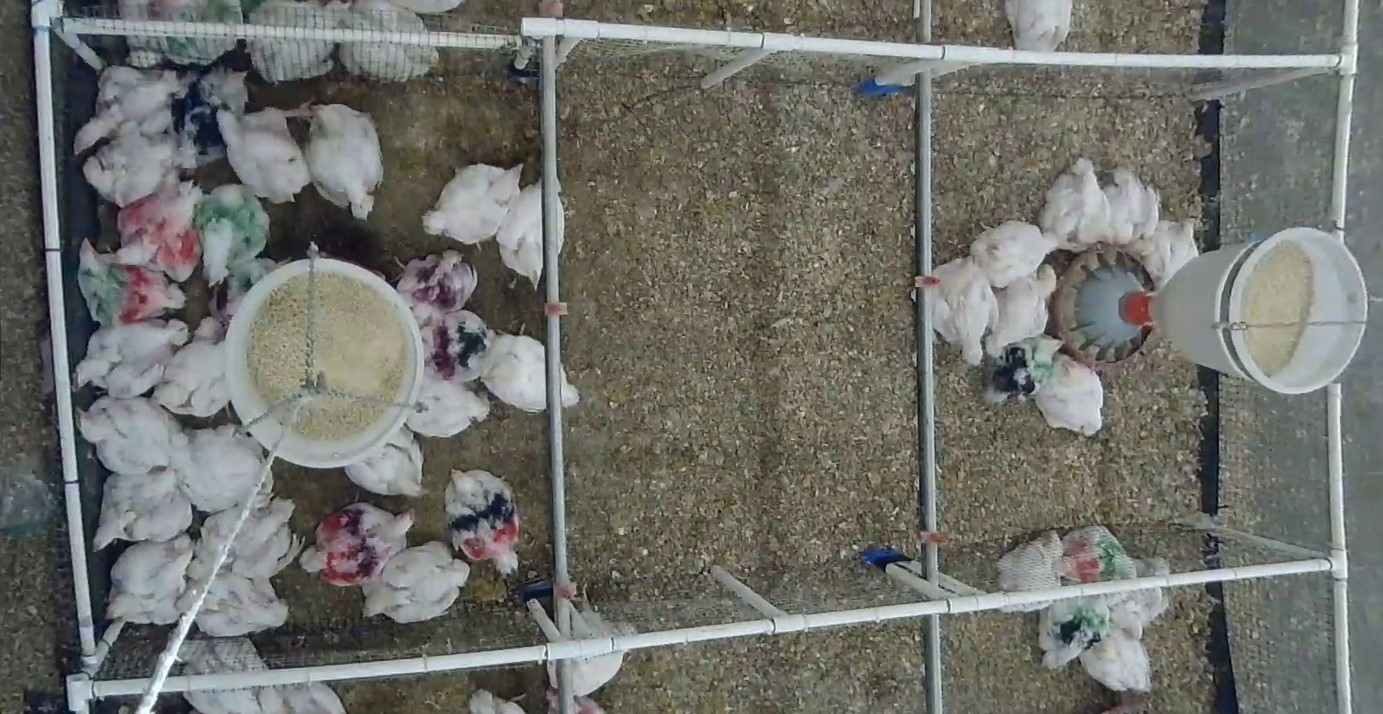chicken: (547, 586, 638, 696), (300, 504, 416, 588), (108, 180, 202, 280), (78, 239, 188, 323), (217, 105, 311, 203), (75, 318, 189, 398), (468, 330, 579, 411), (361, 542, 470, 623), (306, 104, 382, 220), (175, 424, 275, 512), (189, 498, 296, 578), (74, 69, 177, 152), (422, 162, 525, 245), (332, 0, 438, 79), (93, 470, 191, 554), (119, 0, 244, 65), (76, 396, 181, 473), (105, 536, 194, 626), (149, 315, 228, 416), (245, 0, 341, 81), (446, 469, 518, 574), (499, 176, 565, 290), (196, 185, 270, 286), (931, 258, 1000, 363), (176, 69, 248, 169), (181, 573, 288, 636), (986, 264, 1057, 357), (83, 135, 175, 205), (1042, 158, 1106, 252), (993, 530, 1064, 612), (406, 368, 489, 437), (971, 222, 1060, 286), (417, 311, 497, 380), (1036, 354, 1103, 435), (987, 334, 1065, 403), (394, 247, 478, 311), (1039, 594, 1110, 669), (346, 428, 423, 497), (1079, 624, 1155, 692), (1111, 555, 1171, 638), (211, 258, 291, 318), (1062, 525, 1140, 583), (1105, 169, 1159, 248), (181, 665, 264, 714), (165, 635, 264, 674), (1138, 218, 1198, 280), (1005, 0, 1073, 54), (258, 678, 348, 714), (469, 690, 529, 714), (546, 691, 607, 714), (385, 0, 463, 15)
